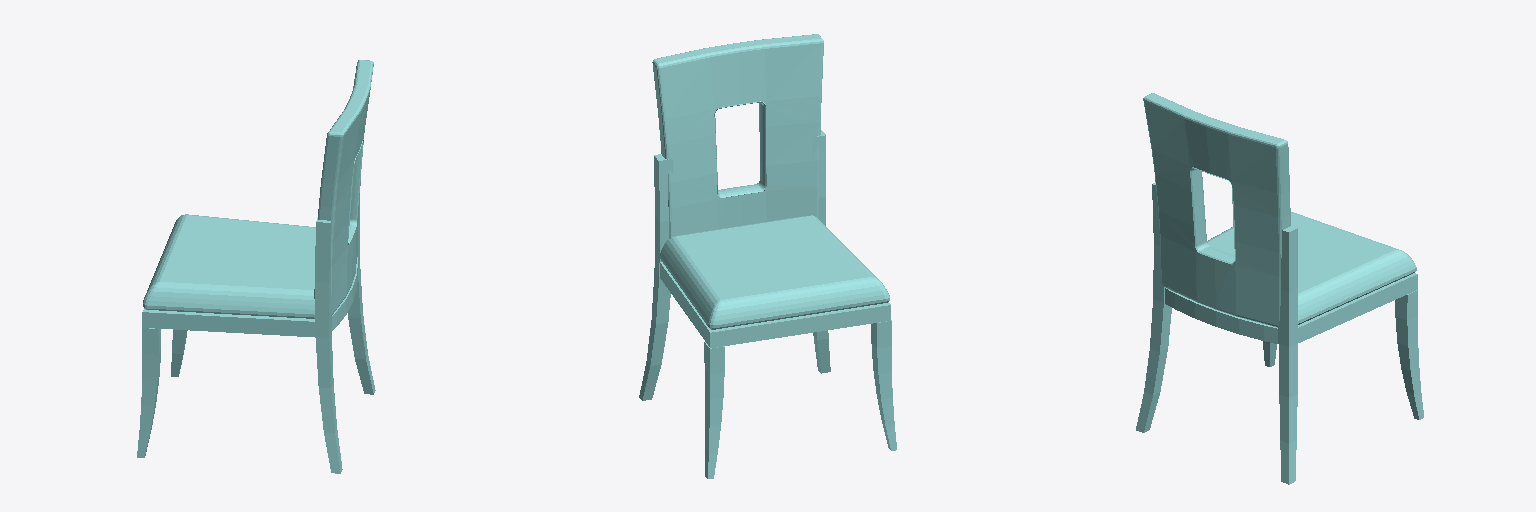
The model's file is chair.obj.
The picture shows the model from 3 angles: view 1: azimuth 30°, elevation 25°; view 2: azimuth 150°, elevation 25°; view 3: azimuth 270°, elevation 25°; orthographic projection.
Parts seen in each view (by area): view 1: Box660; view 2: Box660; view 3: Box660.
Boxes of the visible parts, x1,y1,x2,y2 form: Box660: [137, 60, 375, 473]; Box660: [639, 34, 896, 478]; Box660: [1136, 93, 1423, 484].
Size of the model in its own units: 26.14 by 33.8 by 26.3.